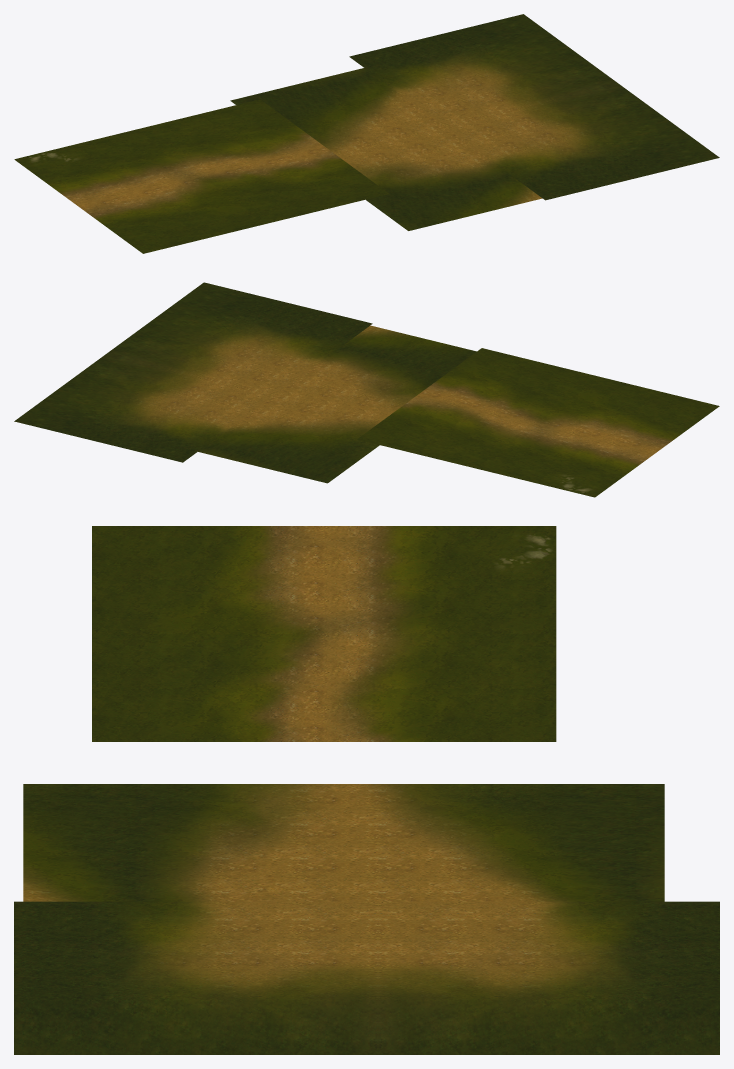
File: lumina_dixing_7F.FBX
3 renders of one model, top to bottom at view 1: azimuth 30°, elevation 25°; view 2: azimuth 150°, elevation 25°; view 3: azimuth 270°, elevation 25°, orthographic. The views are drawn at different scales.
Visible parts, largest first — view 1: lumina_7F_a, lumina_7F_b; view 2: lumina_7F_a, lumina_7F_b; view 3: lumina_7F_a, lumina_7F_b.
Boxes of the visible parts, bbox=[...] form: lumina_7F_a: bbox=[230, 14, 719, 230]; lumina_7F_b: bbox=[14, 99, 388, 253]; lumina_7F_a: bbox=[14, 282, 476, 483]; lumina_7F_b: bbox=[357, 348, 719, 497]; lumina_7F_a: bbox=[14, 784, 719, 1054]; lumina_7F_b: bbox=[92, 526, 556, 741].
Size of the model in its own units: 49.61 by 2 by 30.4.
